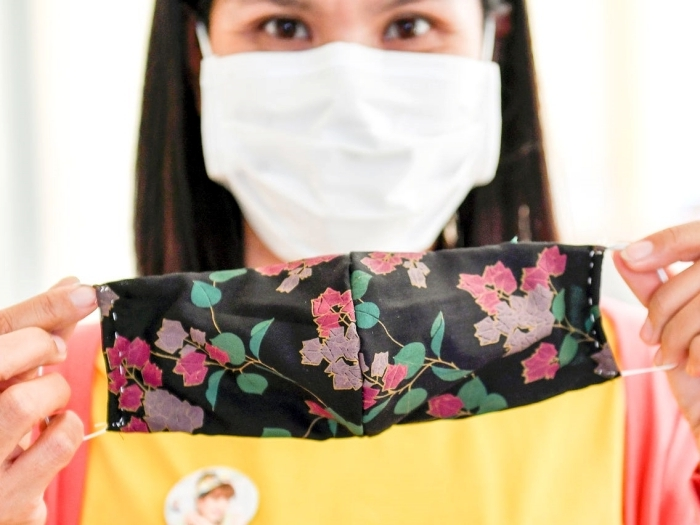with_mask: (211, 1, 483, 243)
